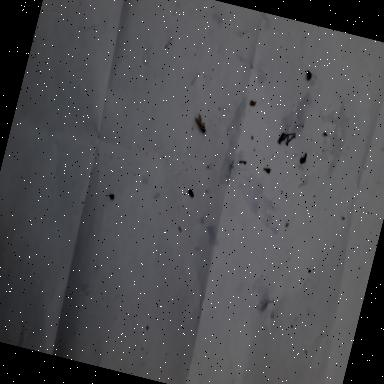pbw: (192, 112, 210, 134)
